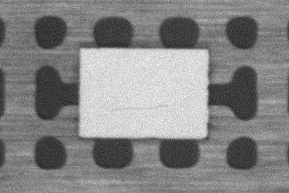DIE_CRACK: (110, 104, 169, 112)
